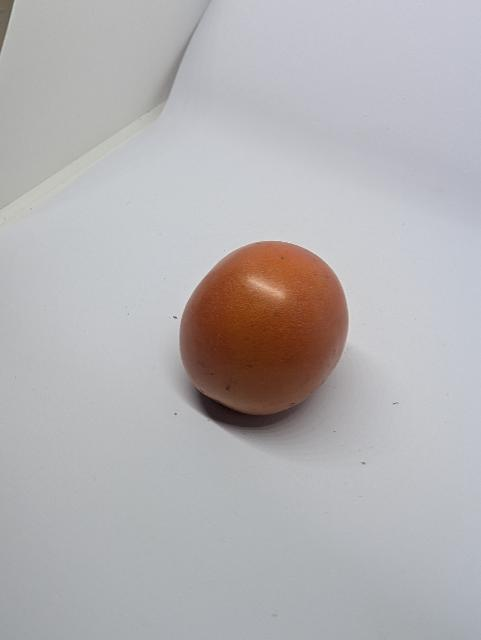red: (172, 234, 357, 434)
